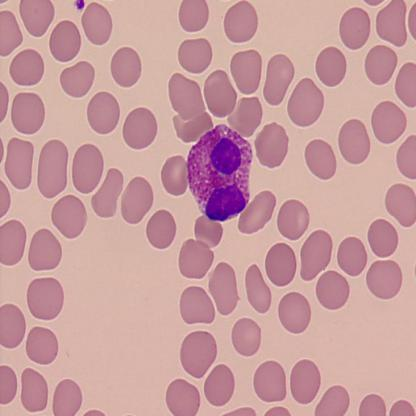Eosinophil: (188, 123, 253, 223)
